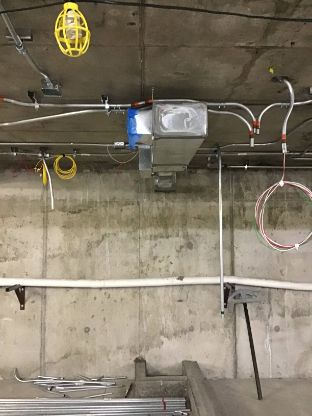Duct: (122, 90, 210, 191)
